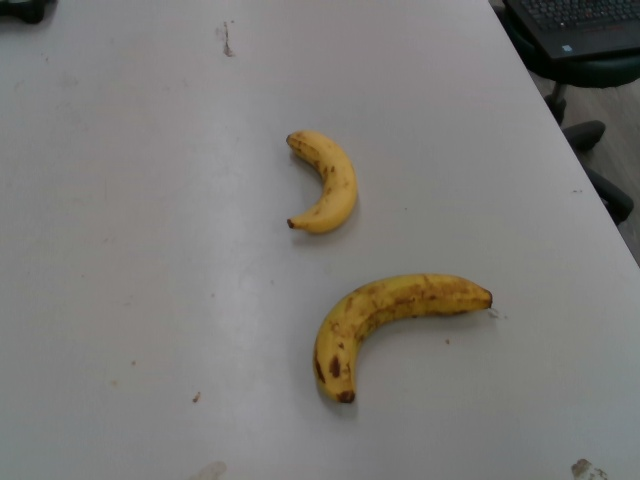banana: (312, 272, 494, 405), (279, 131, 360, 236)
